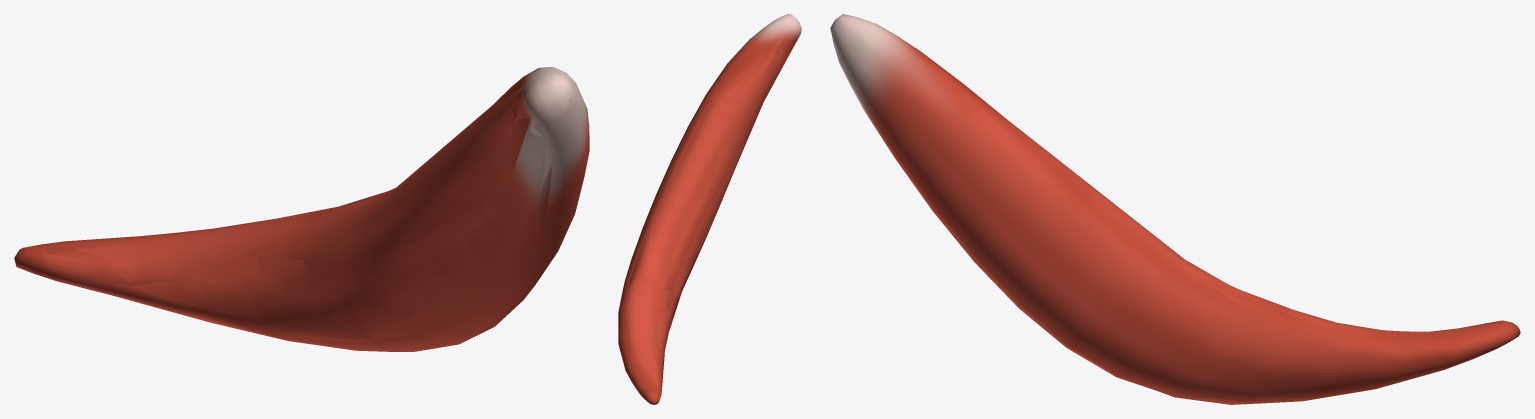
File: L Sternocephalicus.fbx
3 renders of one model, left to right at view 1: azimuth 30°, elevation 25°; view 2: azimuth 150°, elevation 25°; view 3: azimuth 270°, elevation 25°, orthographic. The views are drawn at different scales.
Visible parts, largest first — view 1: L Sternocephalicus low, L Sternocephalicus, L Sternocephalicus high; view 2: L Sternocephalicus low, L Sternocephalicus, L Sternocephalicus high; view 3: L Sternocephalicus, L Sternocephalicus low, L Sternocephalicus high.
Part boxes in pixels (bbox=[...]): L Sternocephalicus low: bbox=[23, 78, 570, 347]; L Sternocephalicus: bbox=[14, 67, 589, 351]; L Sternocephalicus high: bbox=[24, 70, 585, 345]; L Sternocephalicus low: bbox=[621, 28, 799, 404]; L Sternocephalicus: bbox=[618, 14, 801, 404]; L Sternocephalicus high: bbox=[619, 16, 799, 394]; L Sternocephalicus: bbox=[830, 14, 1520, 404]; L Sternocephalicus low: bbox=[832, 16, 1509, 404]; L Sternocephalicus high: bbox=[833, 16, 1511, 386].
Size of the model in its own units: 5.47 by 9.76 by 15.92.
